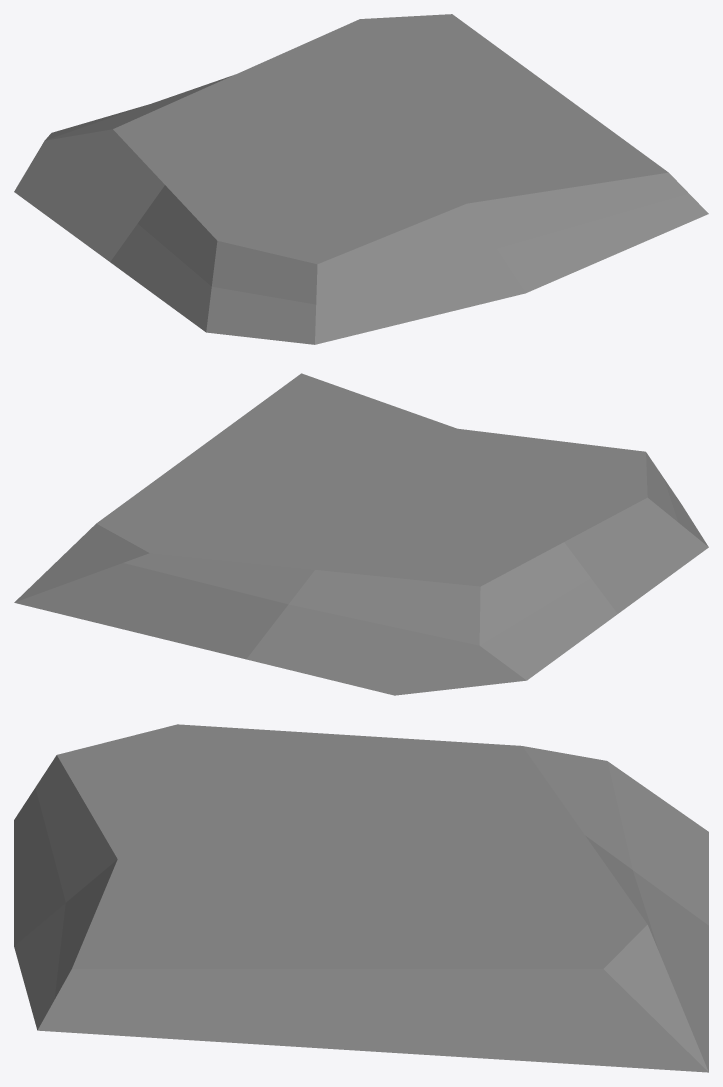
The model's file is env_props_roca_03.fbx.
The picture shows the model from 3 angles, top to bottom: view 1: azimuth 30°, elevation 25°; view 2: azimuth 150°, elevation 25°; view 3: azimuth 270°, elevation 25°; orthographic projection. The views are drawn at different scales.
Parts seen in each view (by area): view 1: Cube.002; view 2: Cube.002; view 3: Cube.002.
Boxes of the visible parts, x1,y1,x2,y2 form: Cube.002: (14, 14, 708, 344); Cube.002: (14, 373, 708, 695); Cube.002: (14, 724, 708, 1072).
Size of the model in its own units: 2.5 by 0.3067 by 2.5.
